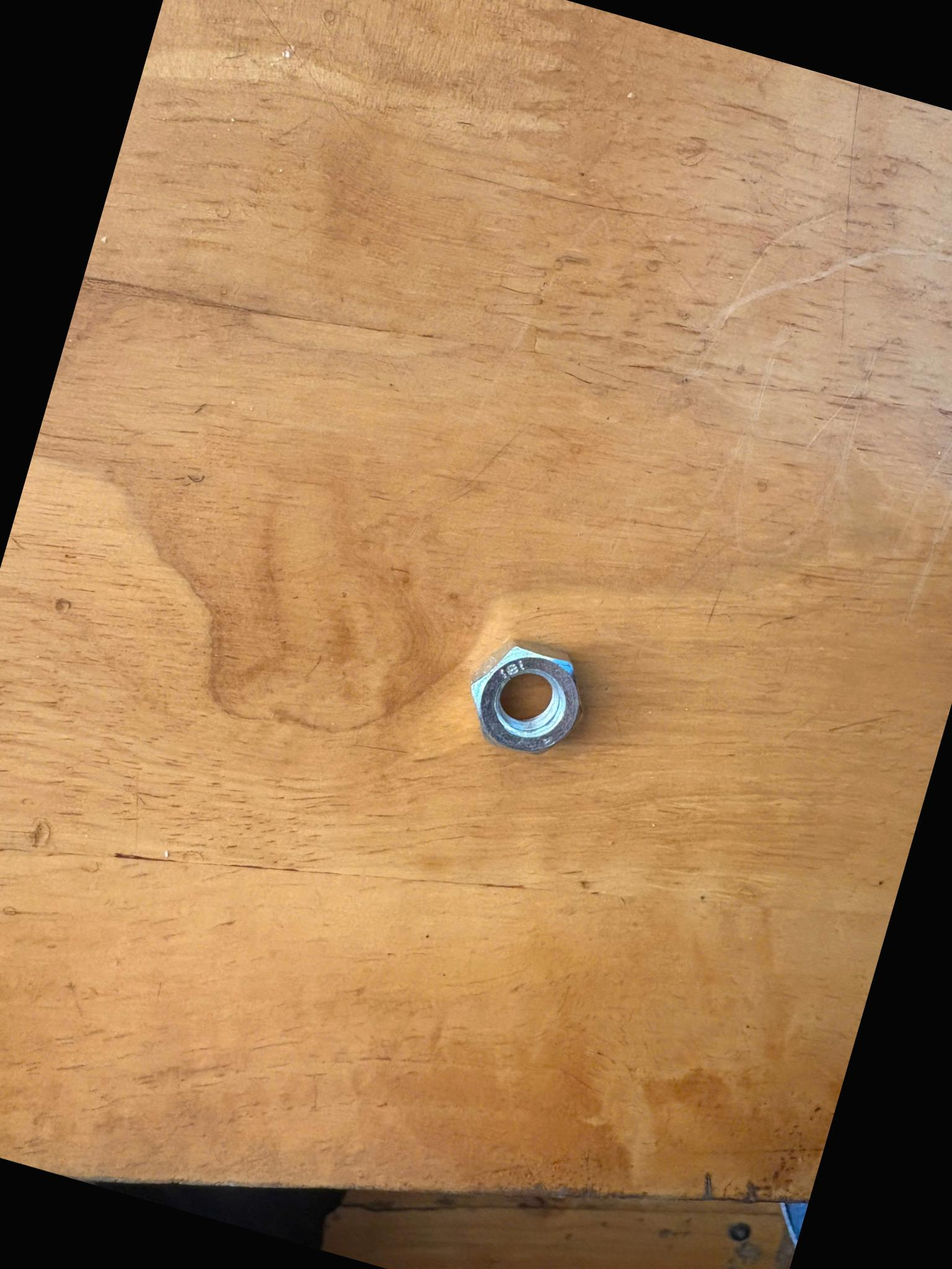nut: (432, 617, 616, 780)
